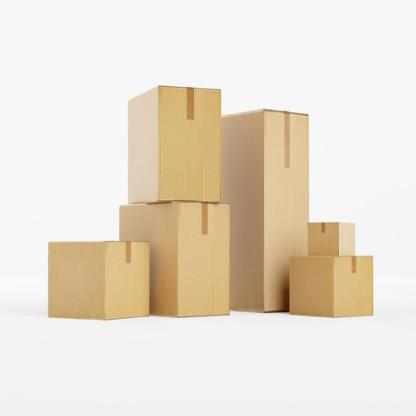box: (262, 110, 310, 313), (156, 87, 222, 202), (178, 201, 230, 318), (105, 240, 149, 322), (333, 256, 374, 318), (308, 222, 339, 256)
